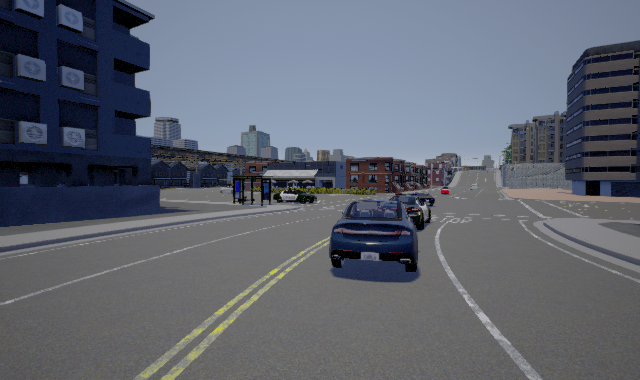vehicle: (329, 193, 435, 272), (273, 189, 317, 204)
